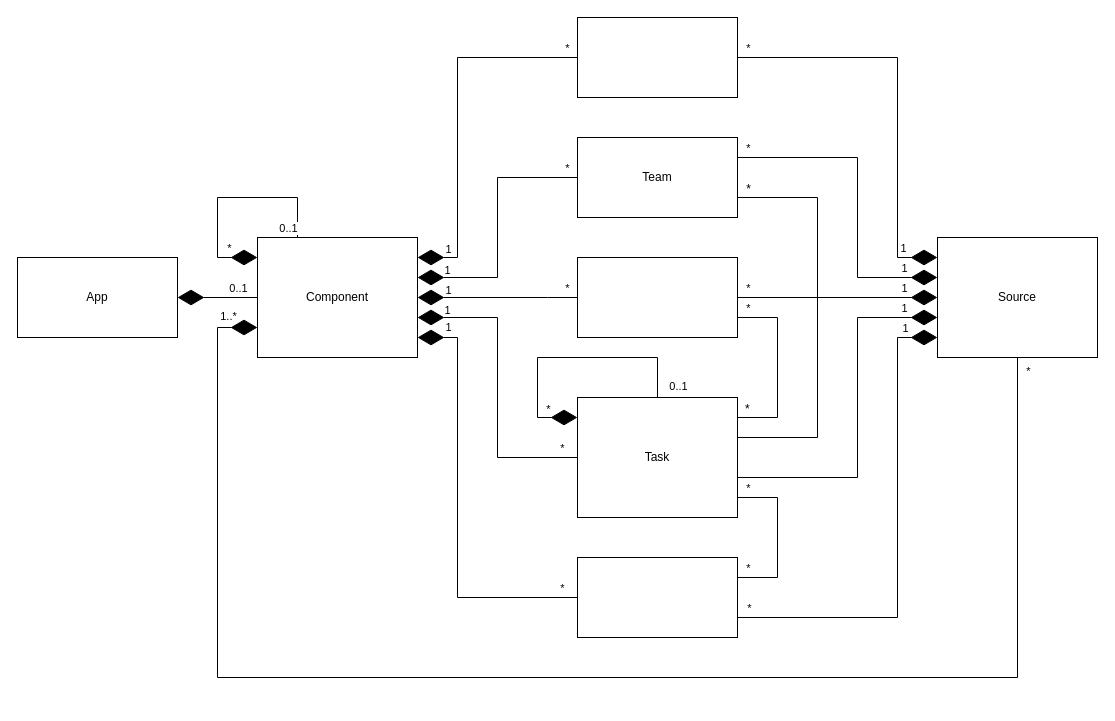
This 1115x721 diagram has some shape labels left out. Each missing label, with the box of its shape:
Project: (576, 16, 738, 98)
SRS: (576, 556, 738, 638)
Timeline: (576, 256, 738, 338)
